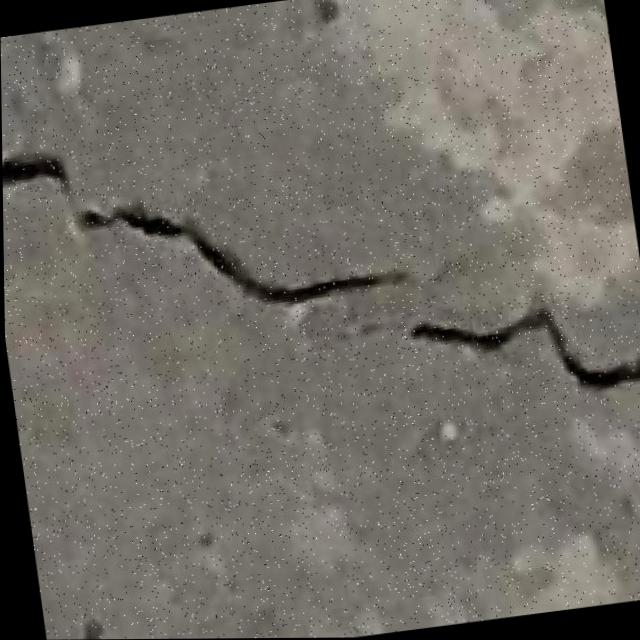Crack: (1, 52, 640, 488)
